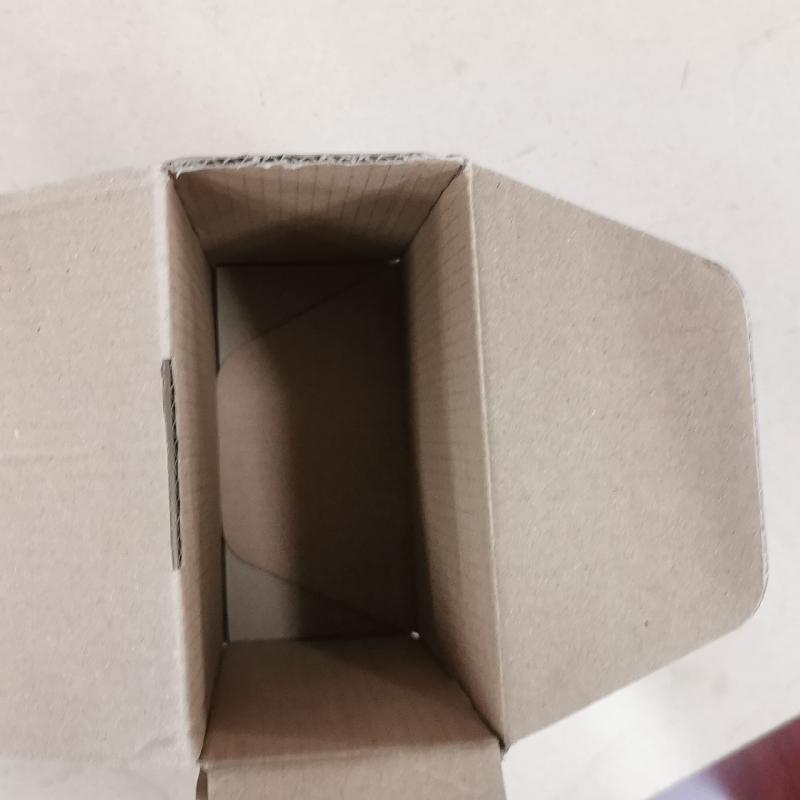boxes: (6, 147, 778, 800)
